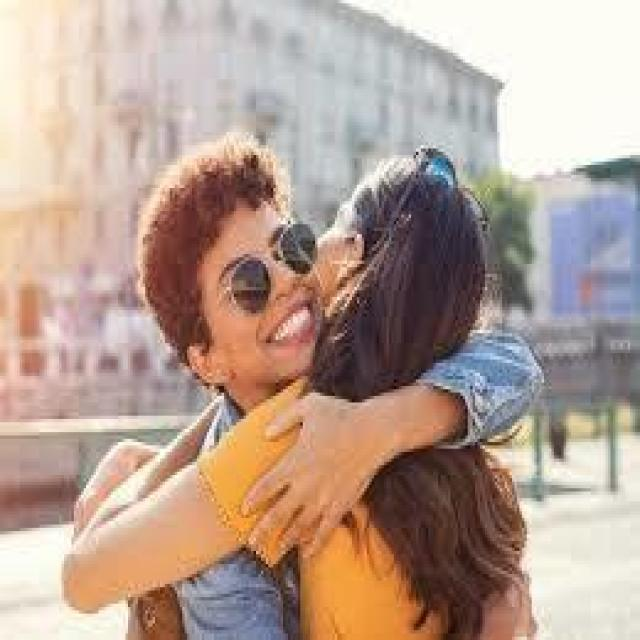person: (214, 106, 539, 636), (111, 109, 352, 633)
